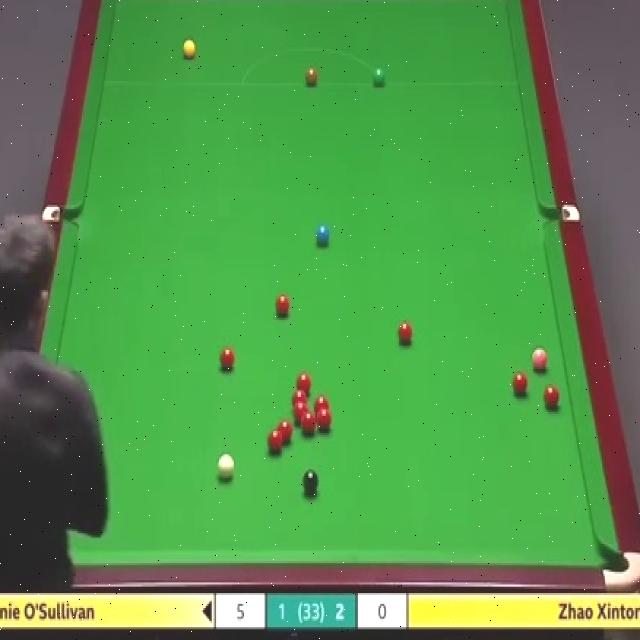black-ball: (302, 468, 319, 498)
blue-ball: (315, 223, 331, 246)
brown-ball: (305, 66, 318, 87)
green-ball: (373, 68, 385, 86)
pink-ball: (532, 346, 548, 373)
red-ball: (218, 346, 236, 374), (266, 430, 284, 456), (513, 372, 531, 397), (278, 422, 295, 448), (544, 386, 562, 410), (316, 408, 332, 434), (398, 320, 414, 346), (274, 295, 291, 318), (302, 410, 316, 434), (293, 403, 308, 423), (295, 373, 312, 390), (292, 388, 307, 406), (314, 398, 329, 412)
white-ball: (218, 452, 236, 479)
yellow-ball: (183, 40, 197, 62)
